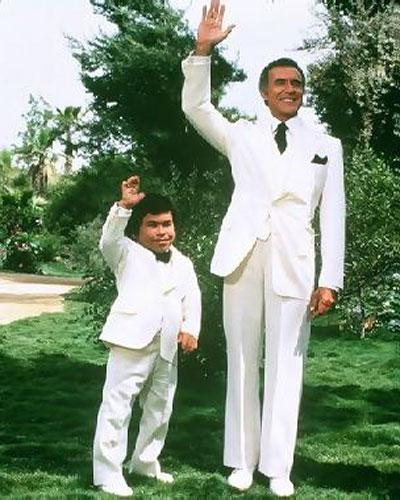person: (94, 177, 202, 498)
